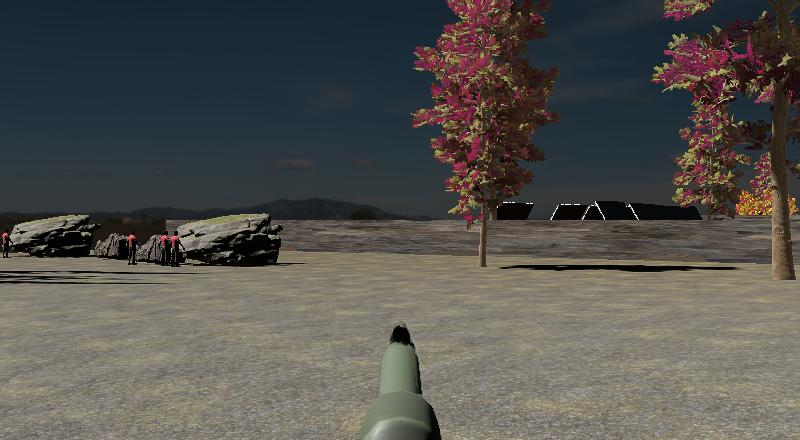Human: (169, 229, 185, 268), (158, 229, 172, 267), (126, 229, 140, 266), (0, 227, 13, 259)
